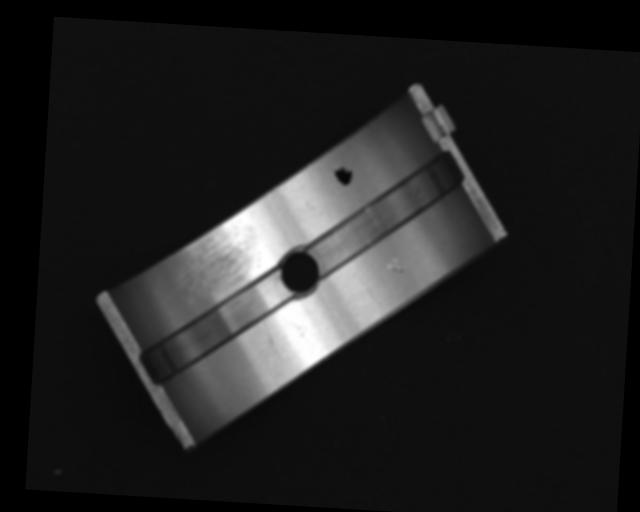blot: (331, 164, 354, 186)
bruise: (385, 256, 408, 275)
gap: (307, 148, 458, 279), (138, 272, 287, 393)
hole: (276, 248, 323, 296)
nick: (261, 317, 282, 367), (355, 276, 382, 305)
scratch: (172, 219, 260, 298)
